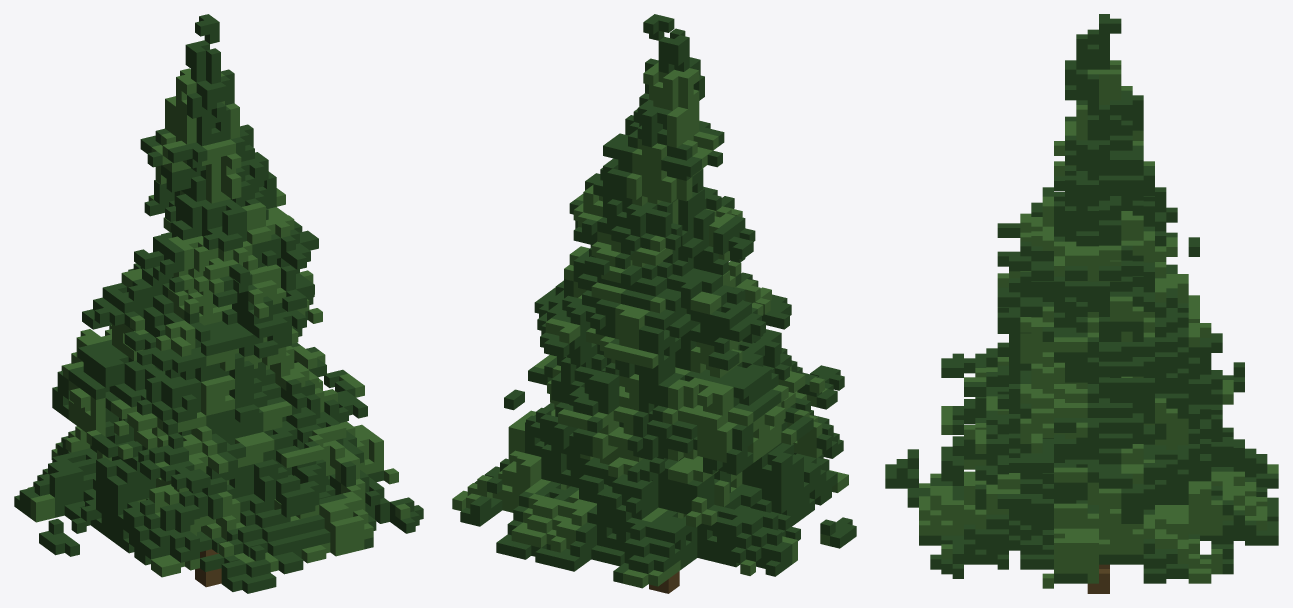
The model's file is tree_backwoods_0.obj.
The picture shows the model from 3 angles, left to right: view 1: azimuth 30°, elevation 25°; view 2: azimuth 150°, elevation 25°; view 3: azimuth 270°, elevation 25°; orthographic projection. The views are drawn at different scales.
Size of the model in its own units: 2.62 by 4.2 by 2.62.
Materials: 1 (1 with a texture image).
